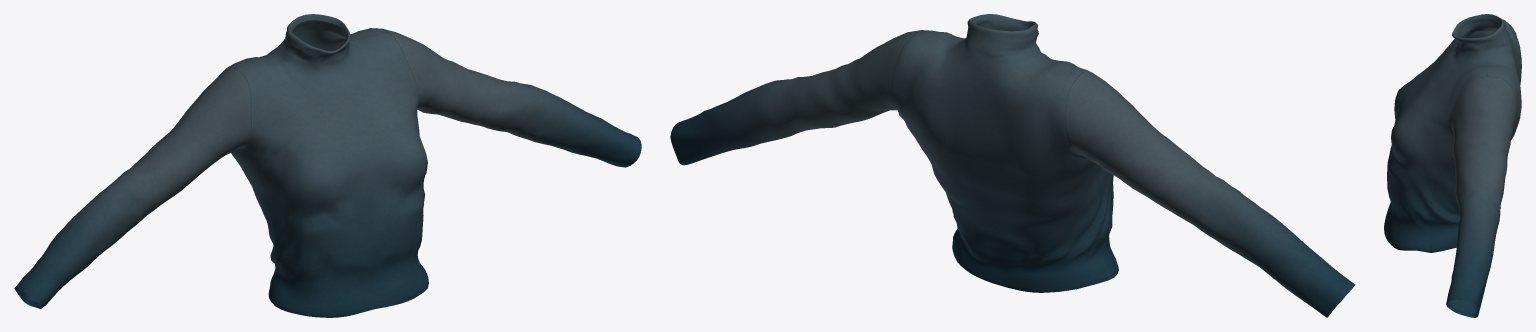
Rendered from sweater.fbx.
The picture shows the model from 3 angles, left to right: view 1: azimuth 30°, elevation 25°; view 2: azimuth 150°, elevation 25°; view 3: azimuth 270°, elevation 25°; orthographic projection. The views are drawn at different scales.
Parts seen in each view (by area): view 1: Turtleneck_sweater; view 2: Turtleneck_sweater; view 3: Turtleneck_sweater.
Boxes of the visible parts, left/top/right/bottom form: Turtleneck_sweater: left=14, top=14, right=641, bottom=317; Turtleneck_sweater: left=670, top=14, right=1355, bottom=317; Turtleneck_sweater: left=1384, top=14, right=1521, bottom=317.
Bounding box in the file's own units: 11699 × 4517 × 2701.
1 material, 1 textured.
